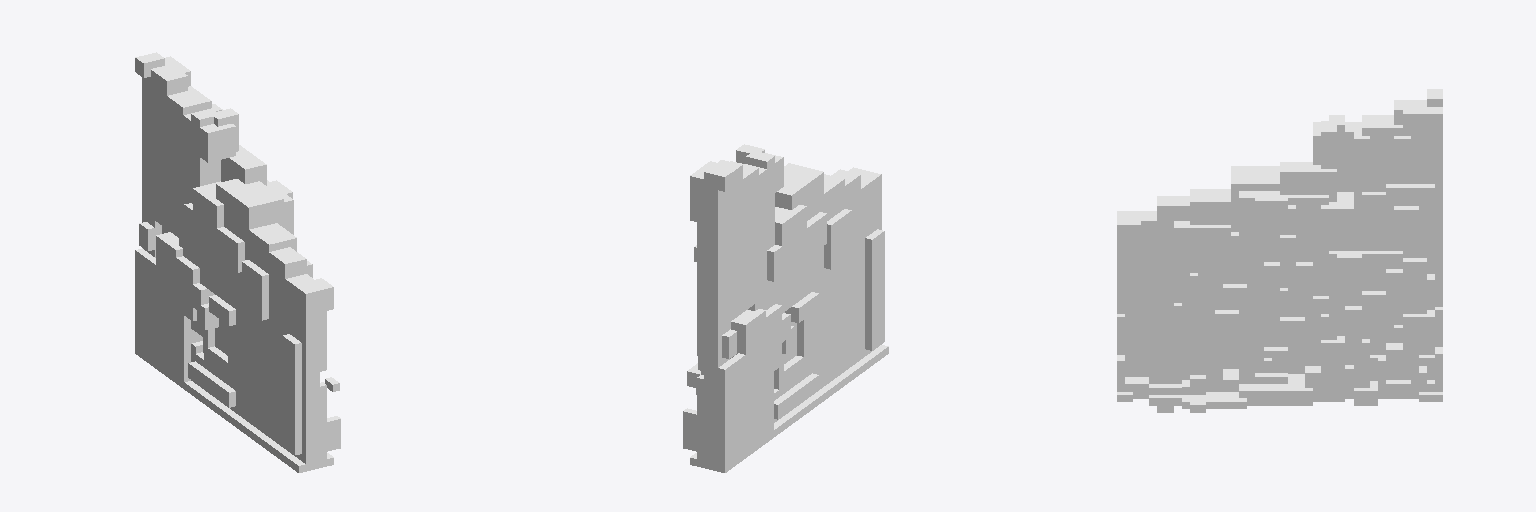
Rendered from finalwall2.obj.
3 views of the same model, side by side, from view 1: azimuth 30°, elevation 25°; view 2: azimuth 150°, elevation 25°; view 3: azimuth 270°, elevation 25° (orthographic).
Parts seen in each view (by area): view 1: finalwall2; view 2: finalwall2; view 3: finalwall2.
Boxes of the visible parts, x1=… form: finalwall2: x1=135, y1=52, x2=340, y2=472; finalwall2: x1=683, y1=144, x2=888, y2=472; finalwall2: x1=1117, y1=89, x2=1442, y2=412.
Size of the model in its own units: 11 by 40 by 40.